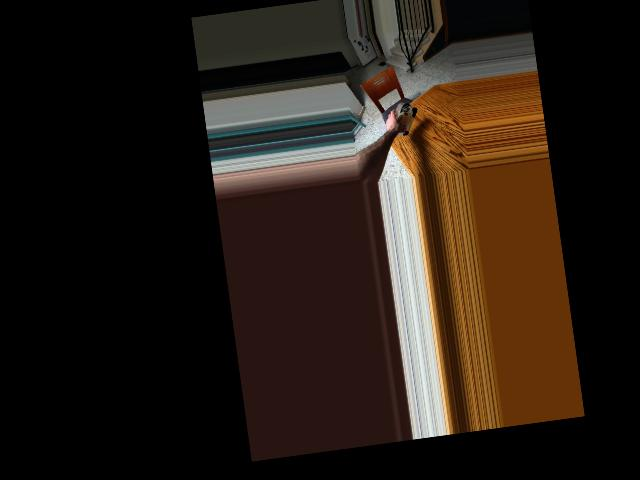cheese: (383, 100, 420, 140)
